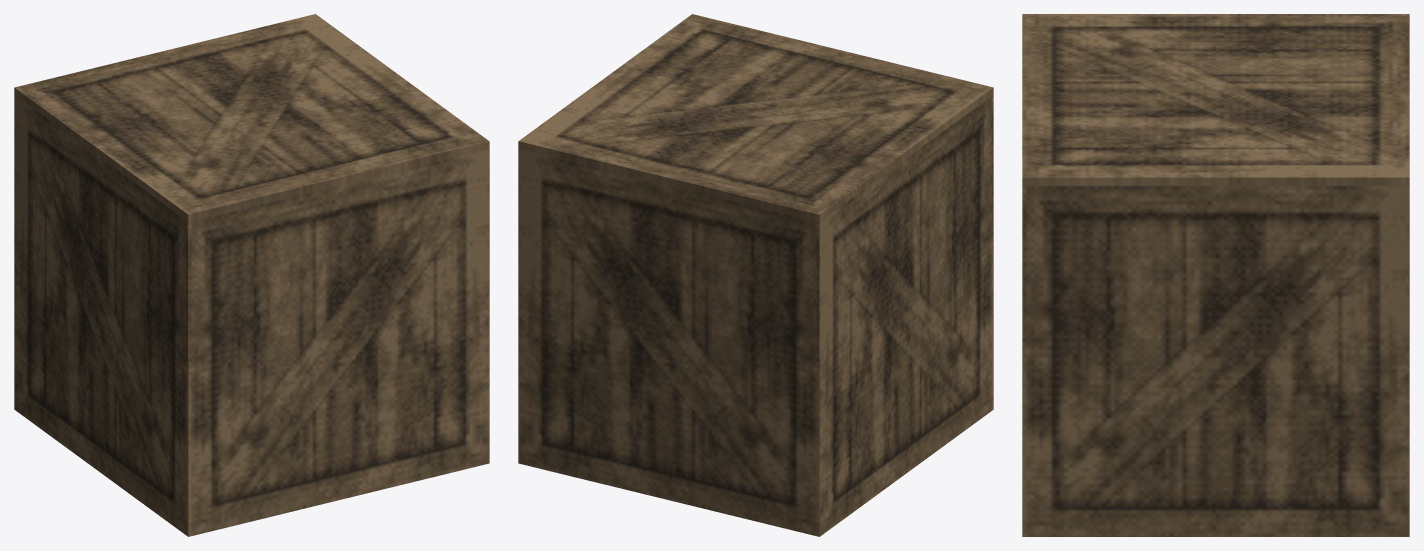
Rendered from box_openable.fbx.
The picture shows the model from 3 angles, left to right: view 1: azimuth 30°, elevation 25°; view 2: azimuth 150°, elevation 25°; view 3: azimuth 270°, elevation 25°; orthographic projection. The views are drawn at different scales.
Parts seen in each view (by area): view 1: box, box.001; view 2: box, box.001; view 3: box, box.001.
Part boxes in pixels (x1,y1,x2,y2): box: (14,94,489,536); box.001: (14,14,489,221); box: (518,95,993,536); box.001: (518,14,993,222); box: (1022,185,1409,536); box.001: (1022,14,1409,186).
Bounding box in the file's own units: 144 × 147 × 144.
